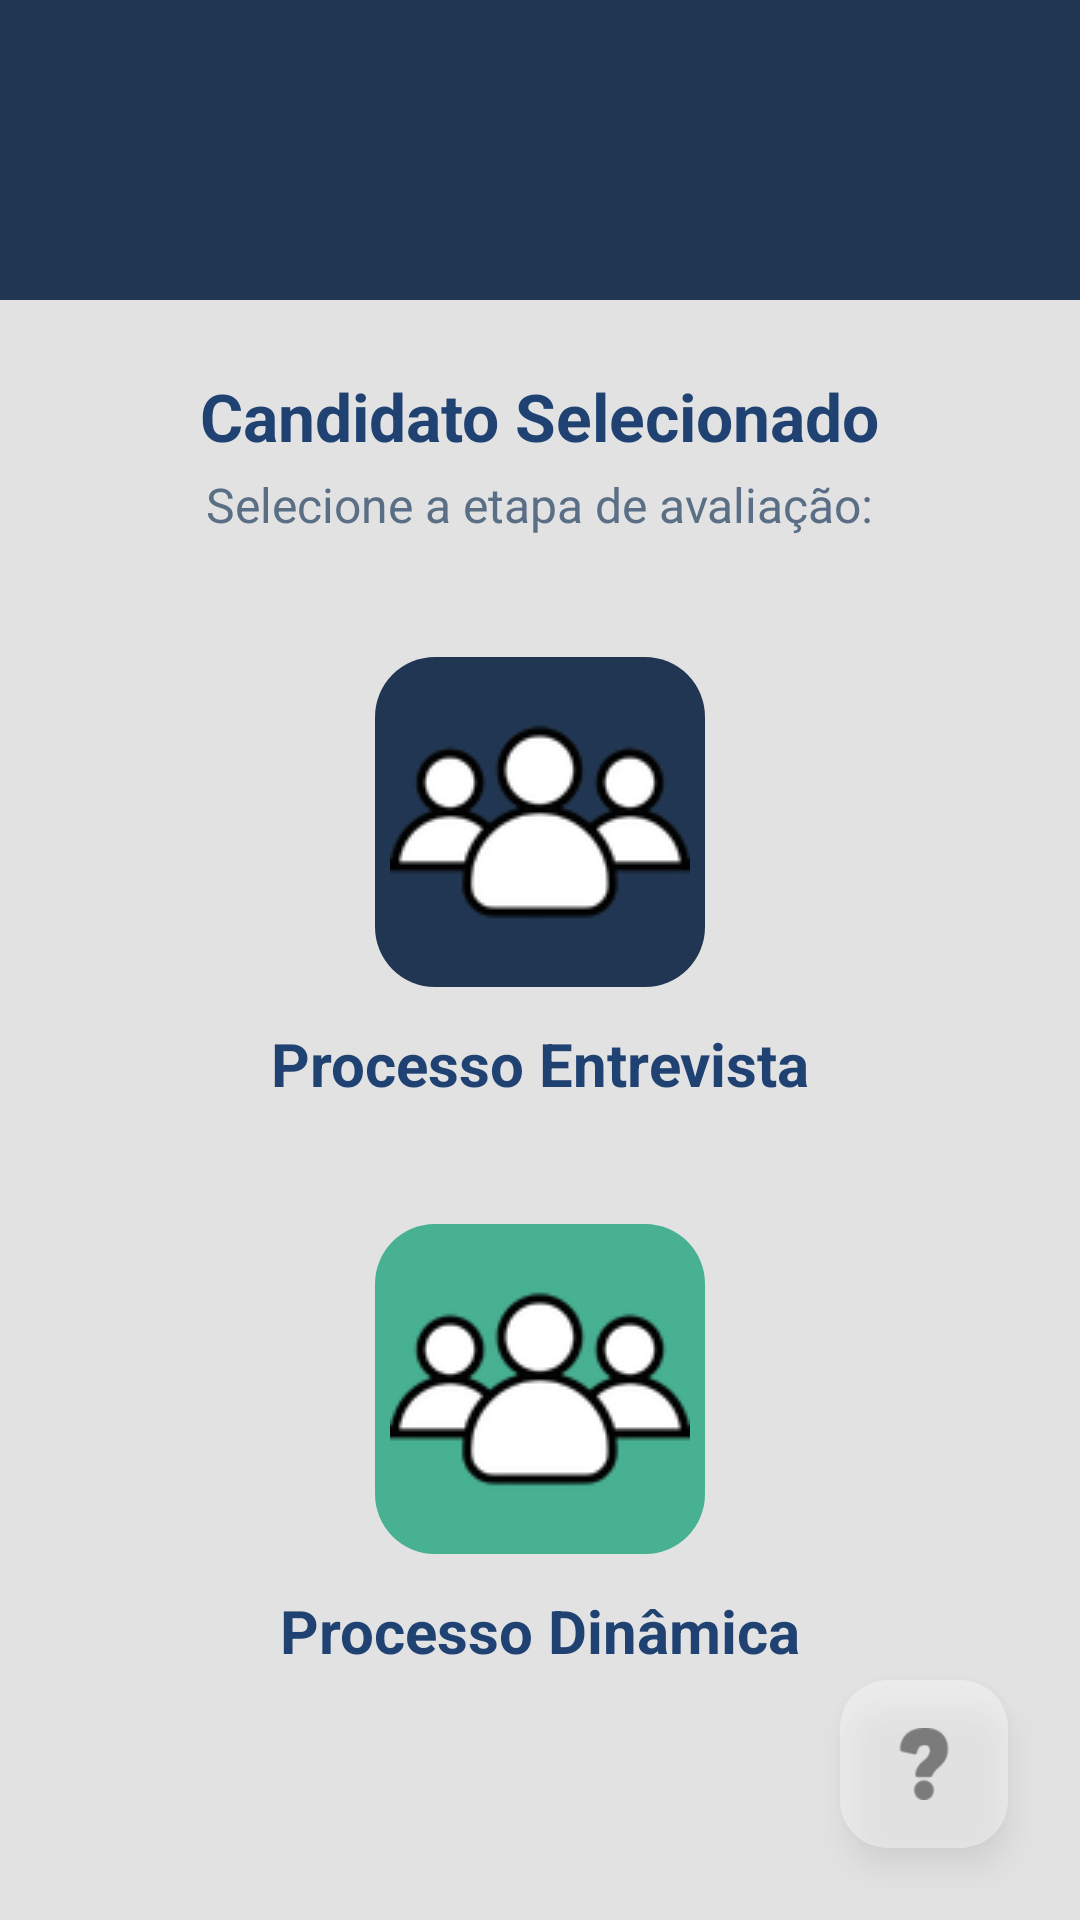

Named icons in this screenshot (1080w x 1920h) and their centers, [x,y]:
grupo: [540,822], [540,1389]
interrogacao: [924,1764]
